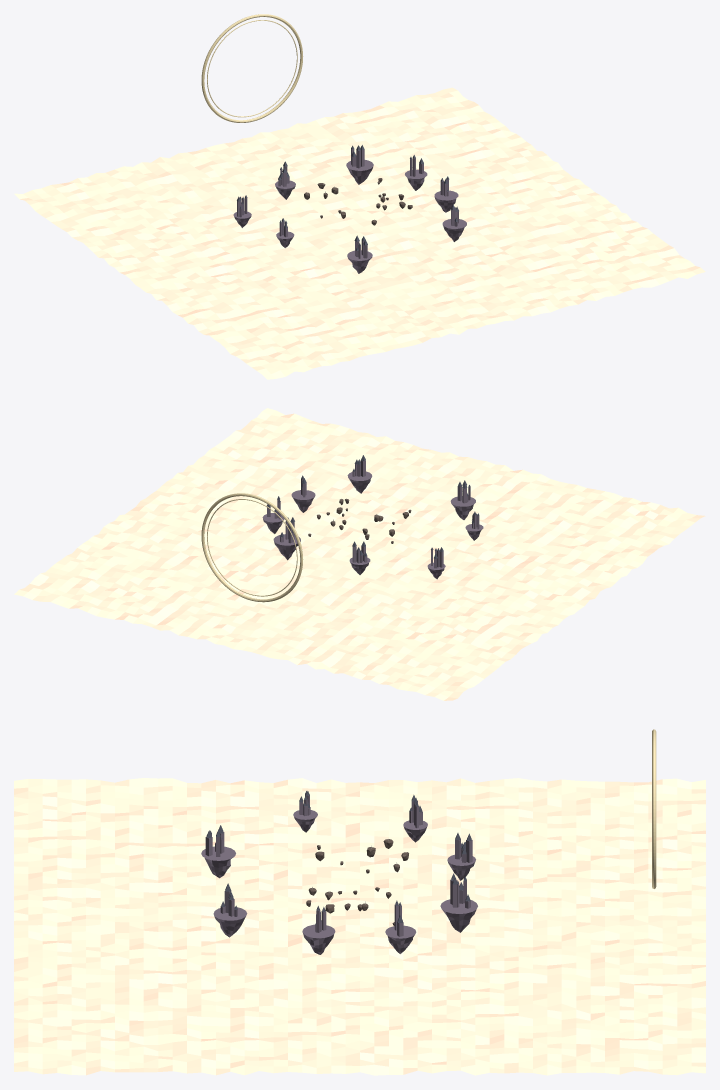
The model's file is GothicStage_BG.fbx.
The picture shows the model from 3 angles, top to bottom: view 1: azimuth 30°, elevation 25°; view 2: azimuth 150°, elevation 25°; view 3: azimuth 270°, elevation 25°; orthographic projection. The views are drawn at different scales.
Parts seen in each view (by area): view 1: BG_CloudSea, BG_Halo; view 2: BG_CloudSea, BG_Halo; view 3: BG_CloudSea, BG_Halo, BG_FarIsle_1, BG_FarIsle_7, BG_FarIsle_5, BG_FarIsle_6.
Boxes of the visible parts, <box> form: BG_CloudSea: <box>14,87,705,379</box>; BG_Halo: <box>201,14,303,122</box>; BG_CloudSea: <box>14,408,705,700</box>; BG_Halo: <box>201,493,303,602</box>; BG_CloudSea: <box>14,778,705,1075</box>; BG_Halo: <box>652,729,656,888</box>; BG_FarIsle_1: <box>440,899,477,932</box>; BG_FarIsle_7: <box>302,924,335,954</box>; BG_FarIsle_5: <box>201,846,235,878</box>; BG_FarIsle_6: <box>213,907,247,937</box>.
Size of the model in its own units: 80000 by 24590 by 80000.
